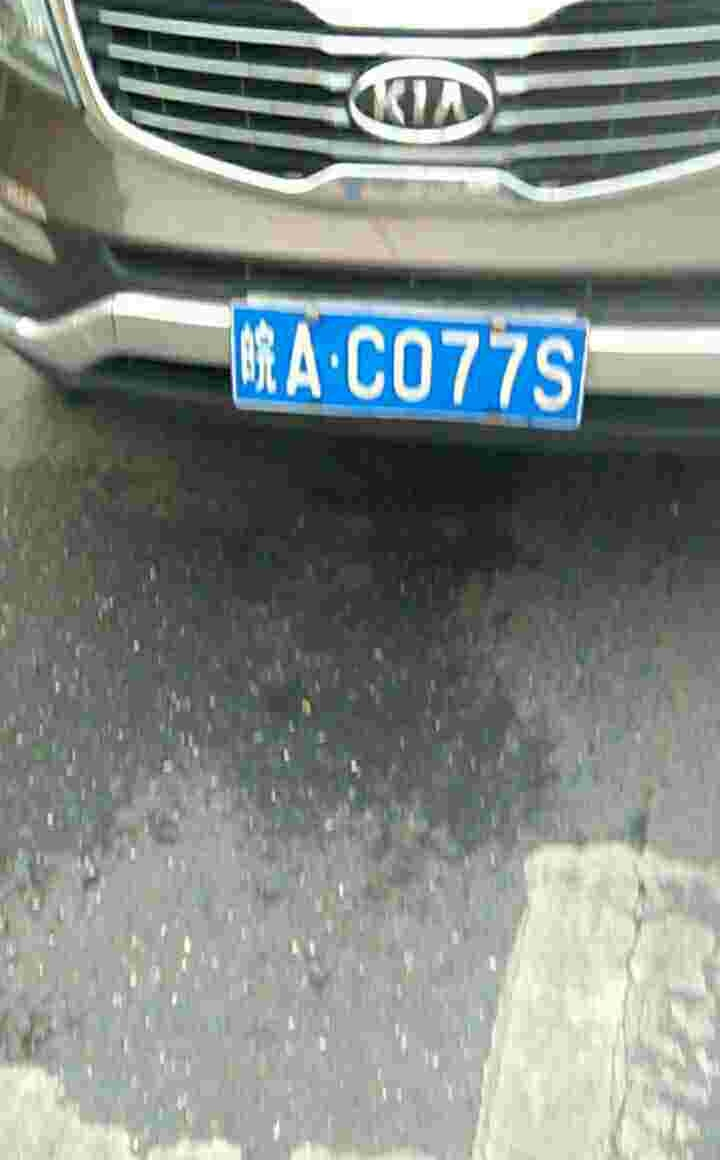license_plate: (231, 307, 597, 414)
